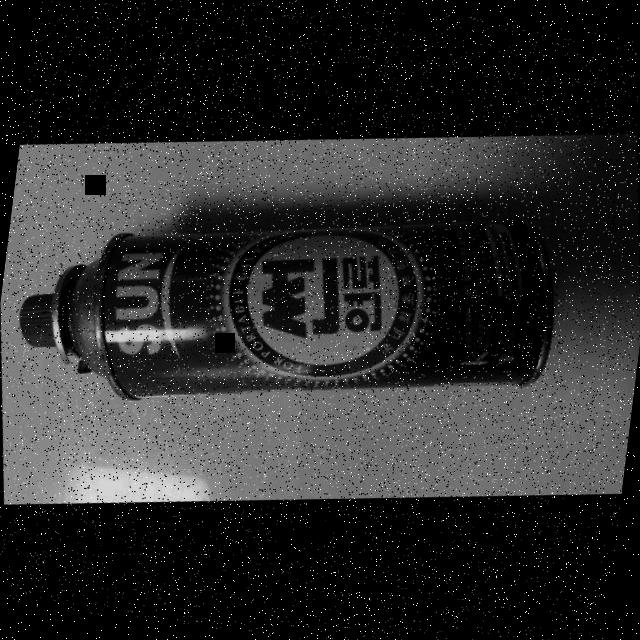chemical_spray_can: (0, 125, 589, 483)
